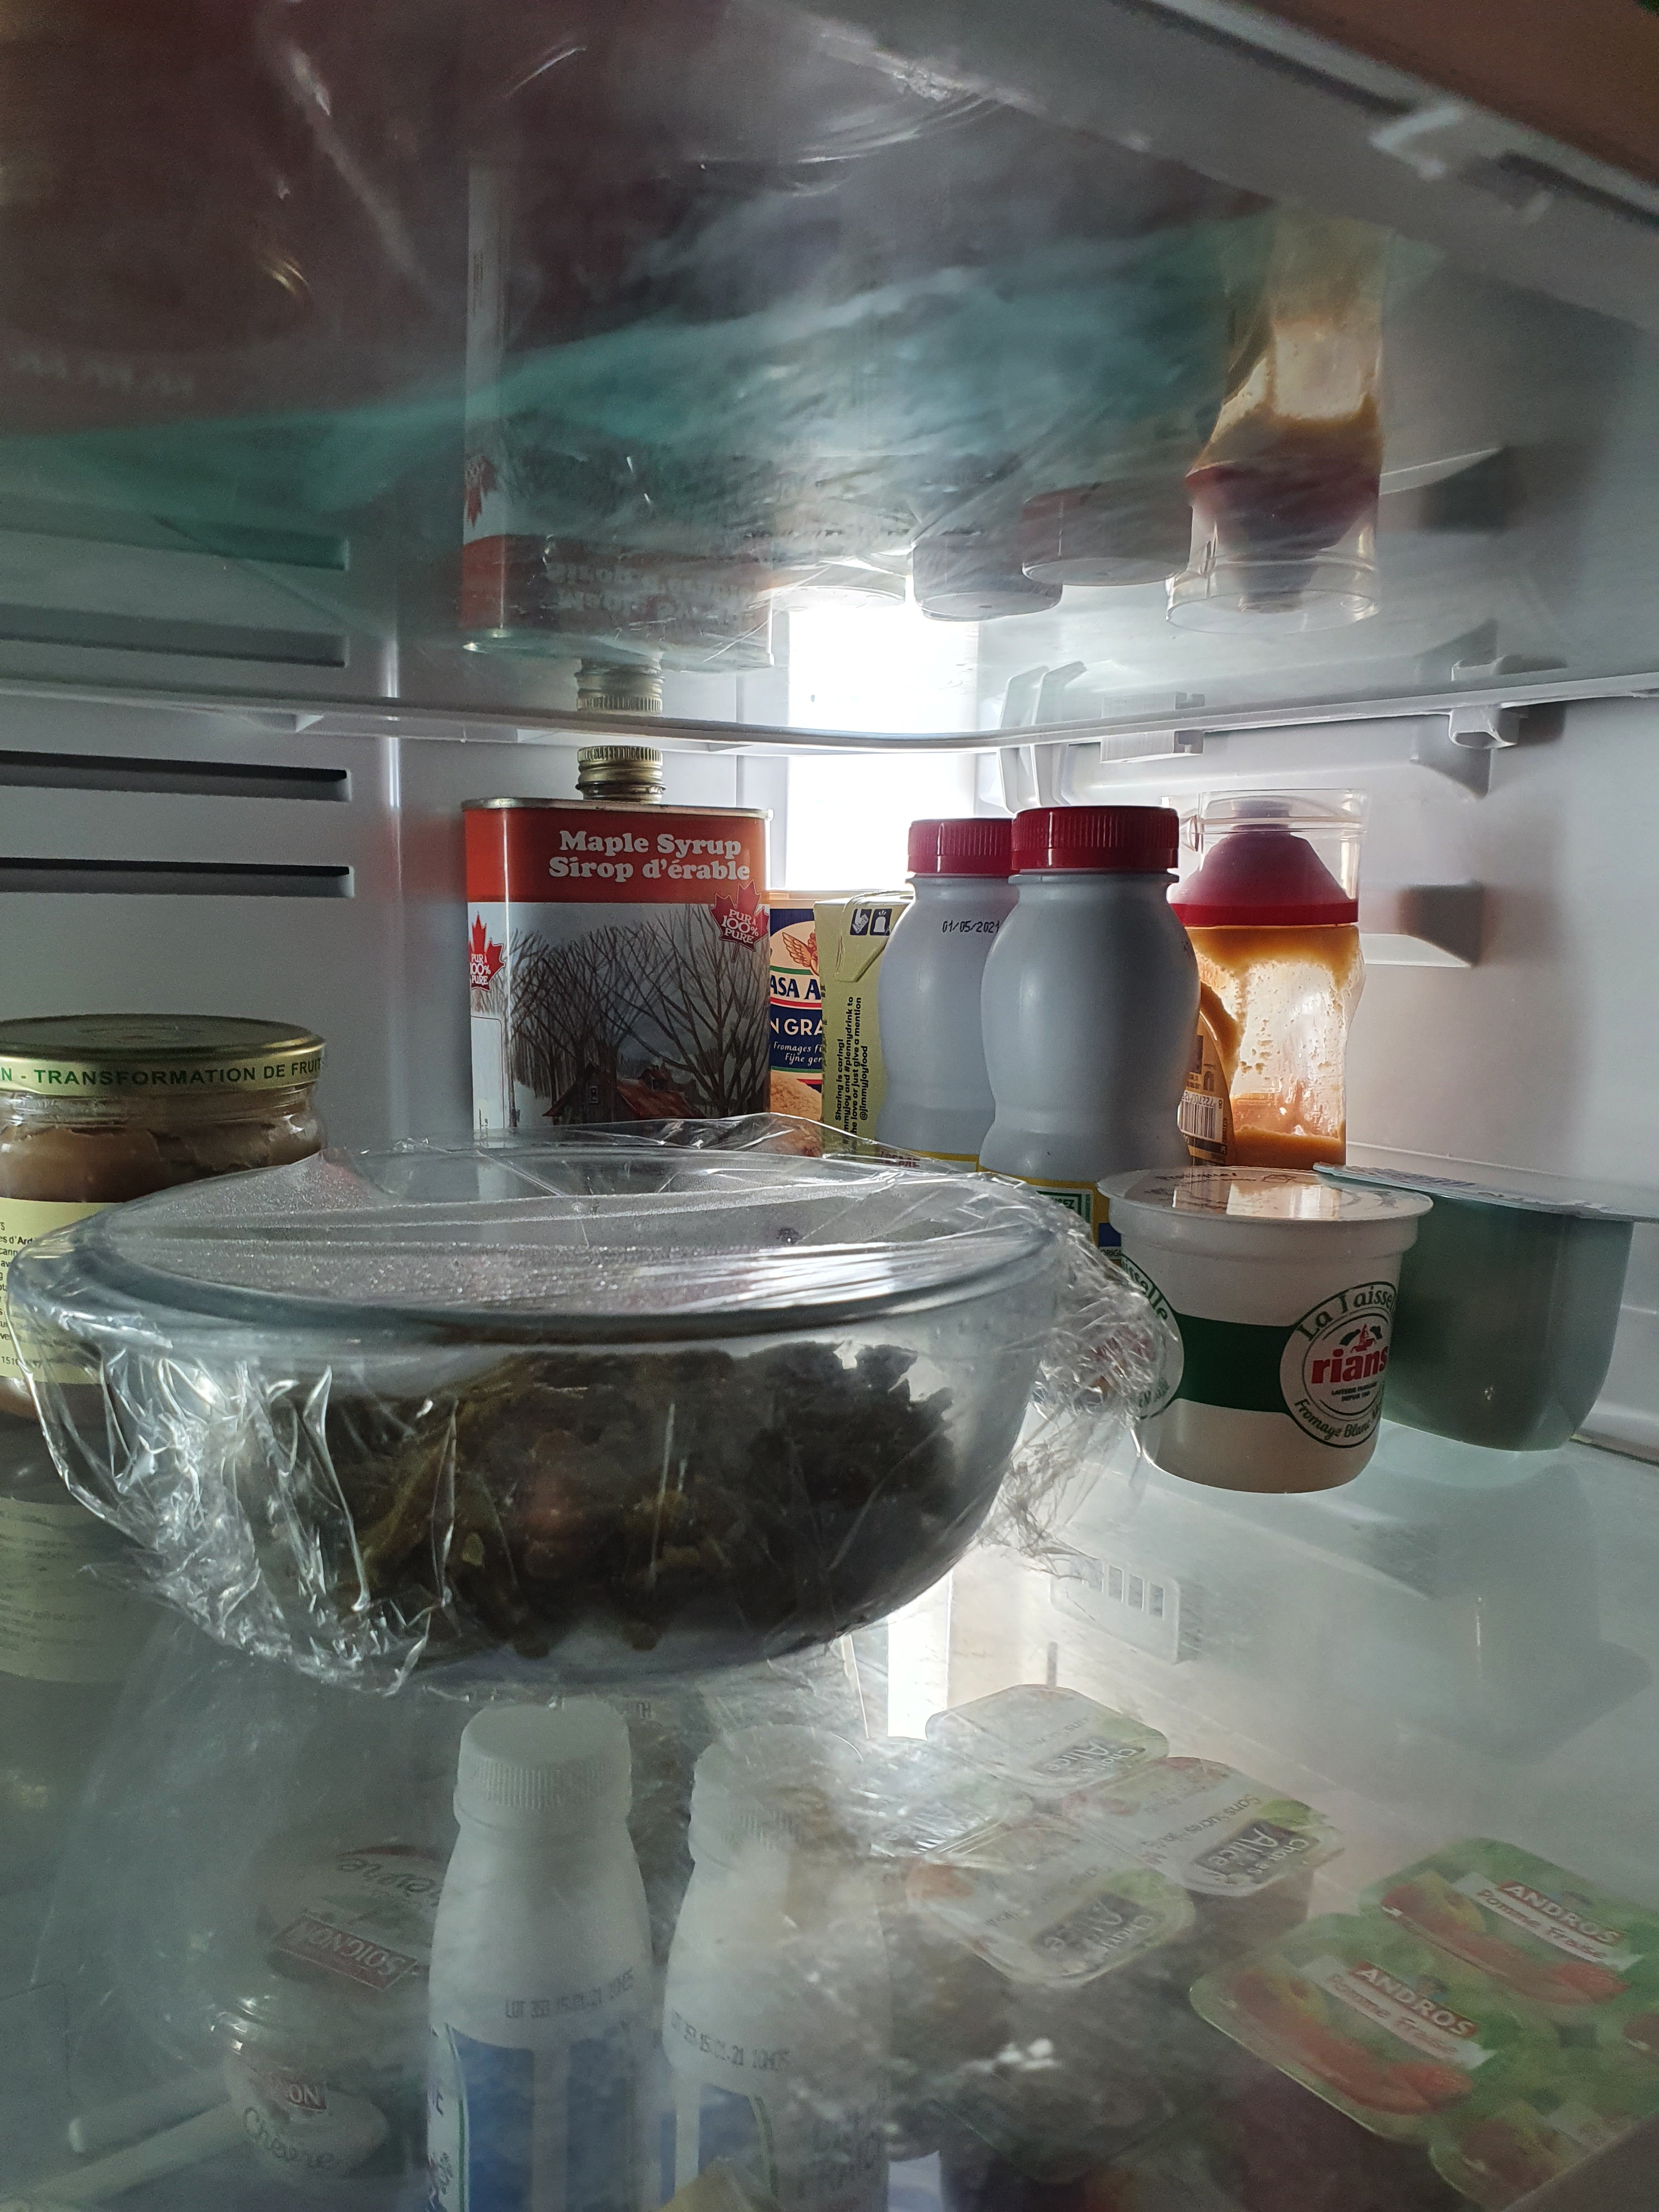compote: (1175, 1911, 1560, 2212), (1326, 1160, 1649, 1447), (922, 1815, 1192, 2095), (1364, 1836, 1657, 2026), (1082, 1752, 1333, 1942), (1438, 2017, 1659, 2212), (835, 1726, 1032, 1921), (931, 1679, 1171, 1811)
cream: (432, 1698, 659, 2212), (664, 1735, 901, 2212), (983, 803, 1192, 1273), (884, 820, 1019, 1214)
yoghurt: (1110, 1158, 1427, 1500)
